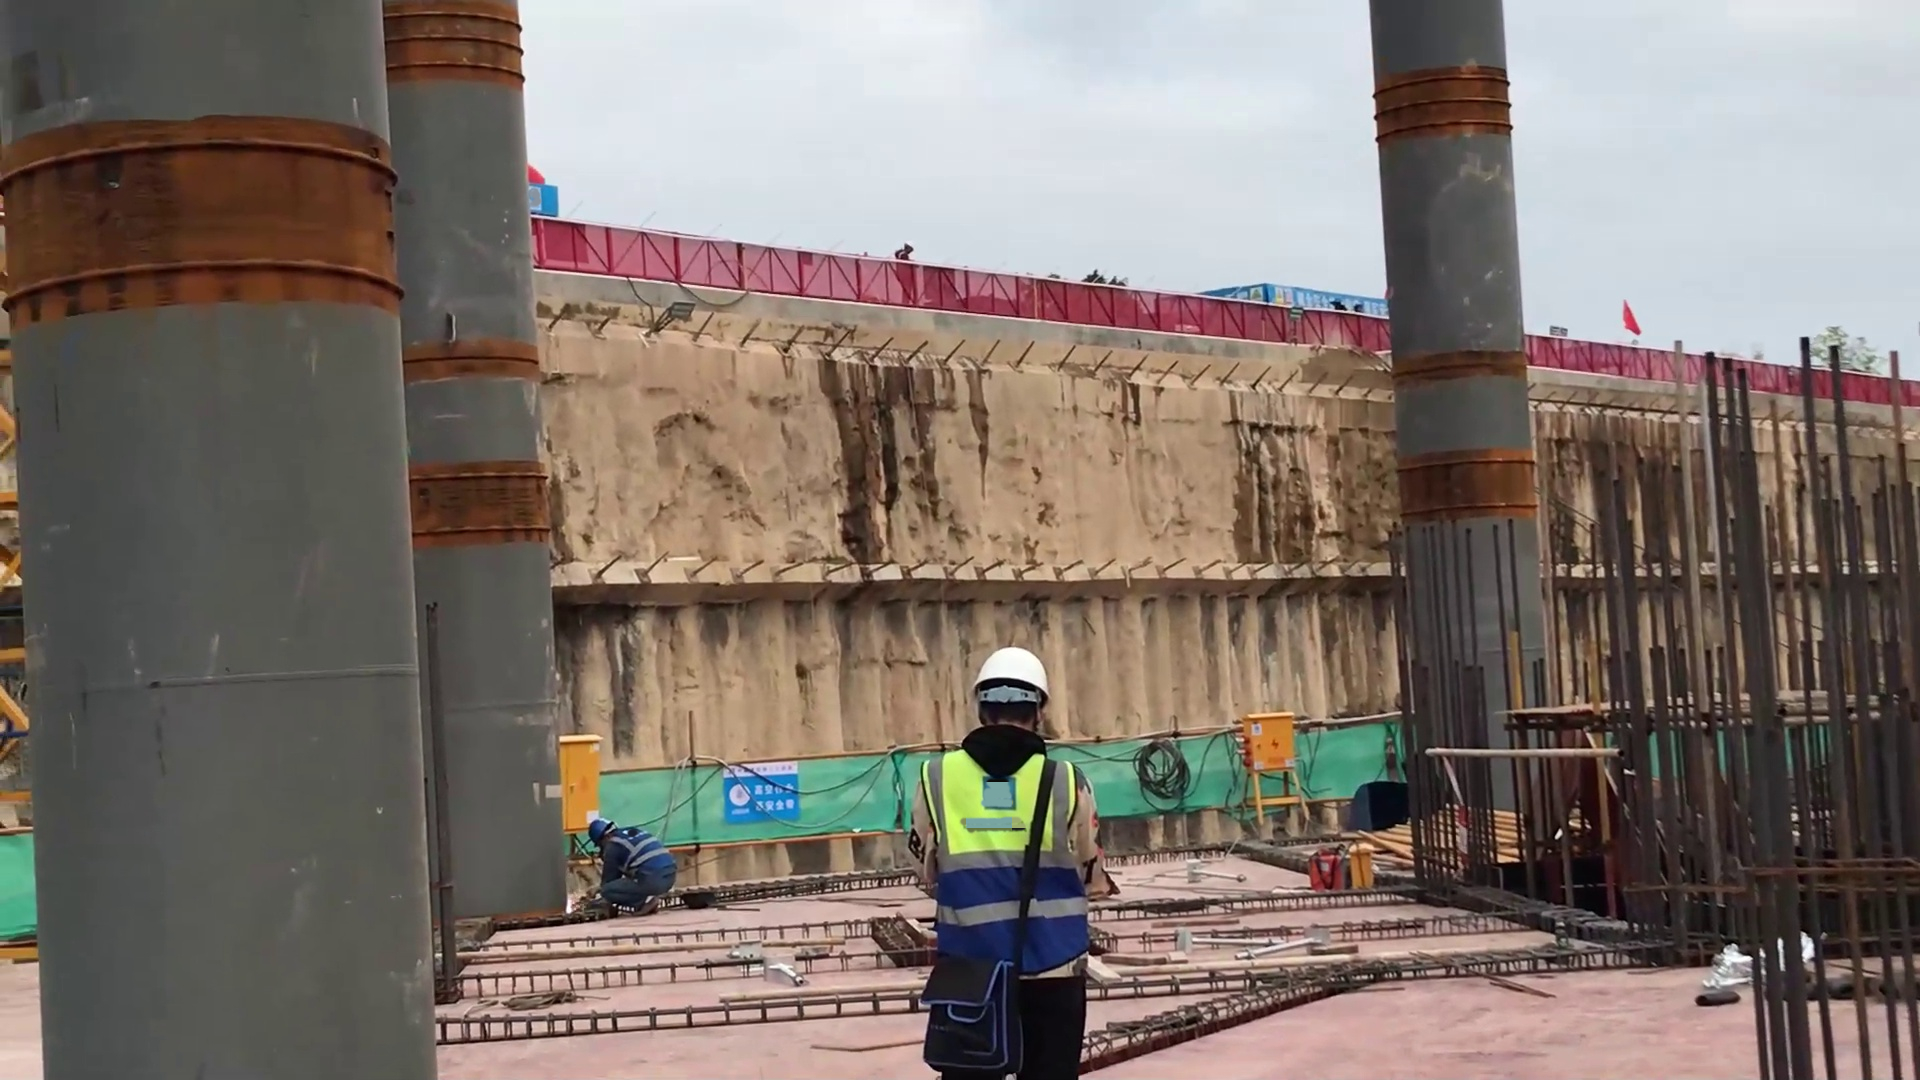ebox: (1240, 693, 1310, 840), (559, 719, 620, 848)
fence: (530, 190, 1384, 377), (1548, 288, 1920, 424)
helmet: (970, 647, 1088, 723), (582, 815, 623, 842)
person: (900, 643, 1113, 1080), (586, 814, 678, 914)
slogan: (1213, 223, 1387, 358), (697, 720, 819, 846)
vest: (908, 733, 1122, 990), (611, 827, 682, 896)
